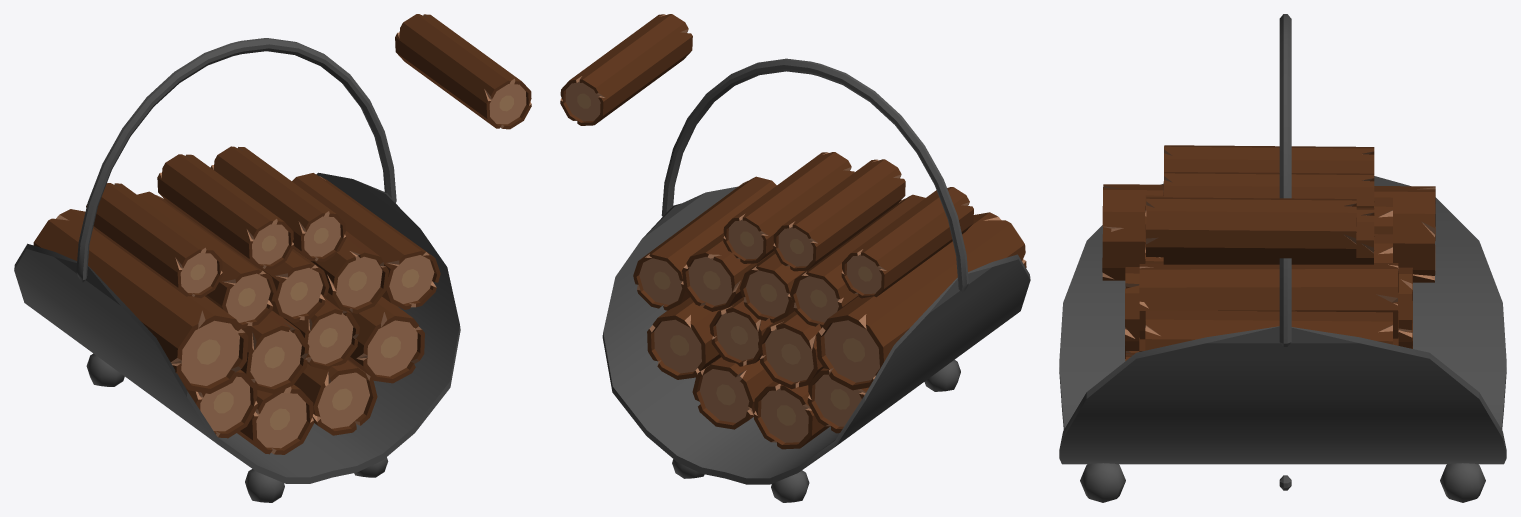
The model's file is Дровница.fbx.
3 renders of one model, left to right at view 1: azimuth 30°, elevation 25°; view 2: azimuth 150°, elevation 25°; view 3: azimuth 270°, elevation 25°, orthographic. The views are drawn at different scales.
Parts seen in each view (by area): view 1: Cylinder, Circle.001, Cylinder.014; view 2: Cylinder, Circle.001, Cylinder.014; view 3: Circle.001, Cylinder, Cylinder.014.
Part boxes in pixels (x1,y1,x2,y2): Cylinder: [33, 146, 440, 454]; Circle.001: [14, 38, 460, 502]; Cylinder.014: [395, 14, 531, 129]; Cylinder: [633, 152, 1026, 449]; Circle.001: [602, 58, 1030, 502]; Cylinder.014: [560, 14, 692, 125]; Circle.001: [1059, 14, 1506, 502]; Cylinder: [1102, 145, 1435, 360]; Cylinder.014: [1146, 197, 1356, 258].
Size of the model in its own units: 100 by 98.08 by 86.77.
